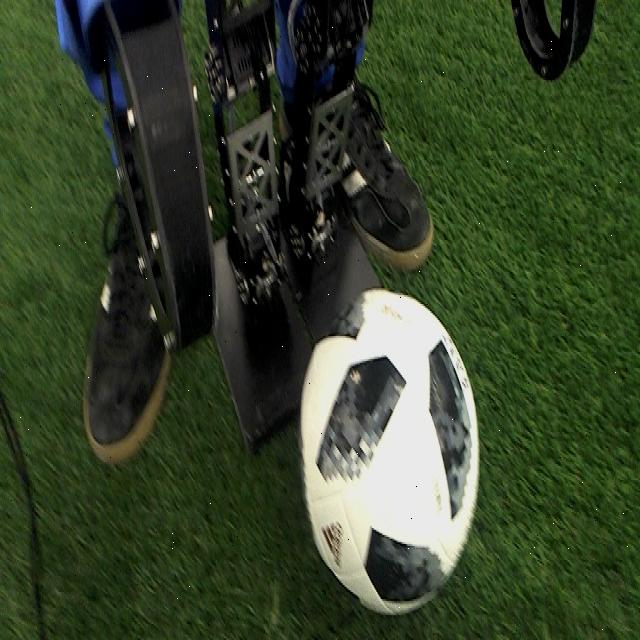ball: (296, 284, 481, 620)
